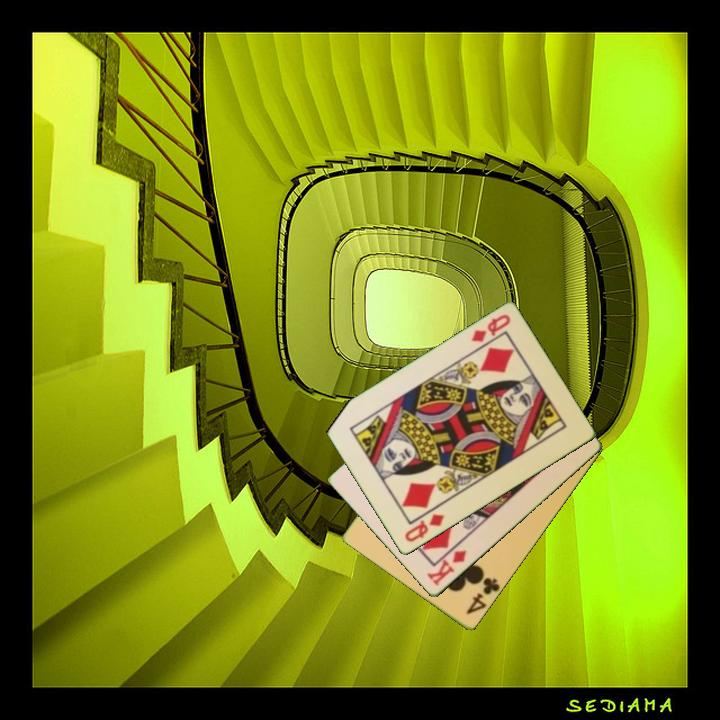4c: (462, 574, 503, 618)
Kd: (423, 547, 470, 589)
Qd: (401, 511, 448, 546), (467, 311, 513, 346)
